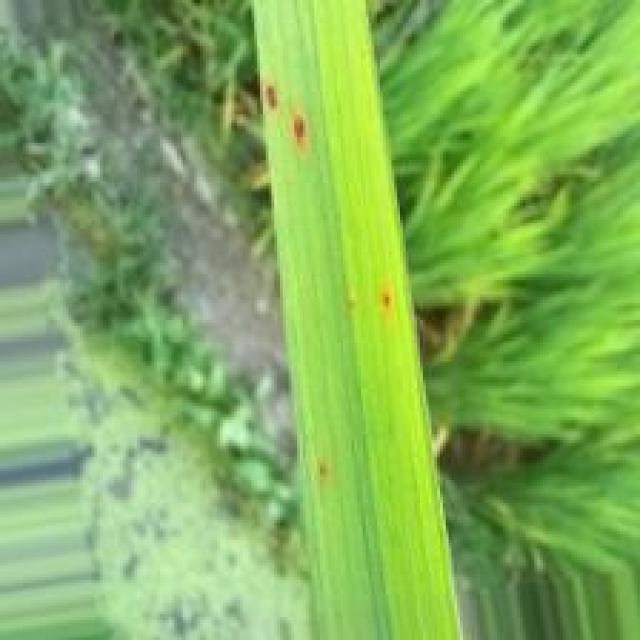Brown_Spot: (261, 73, 284, 122), (291, 109, 312, 148), (309, 453, 333, 484), (378, 281, 396, 315)
